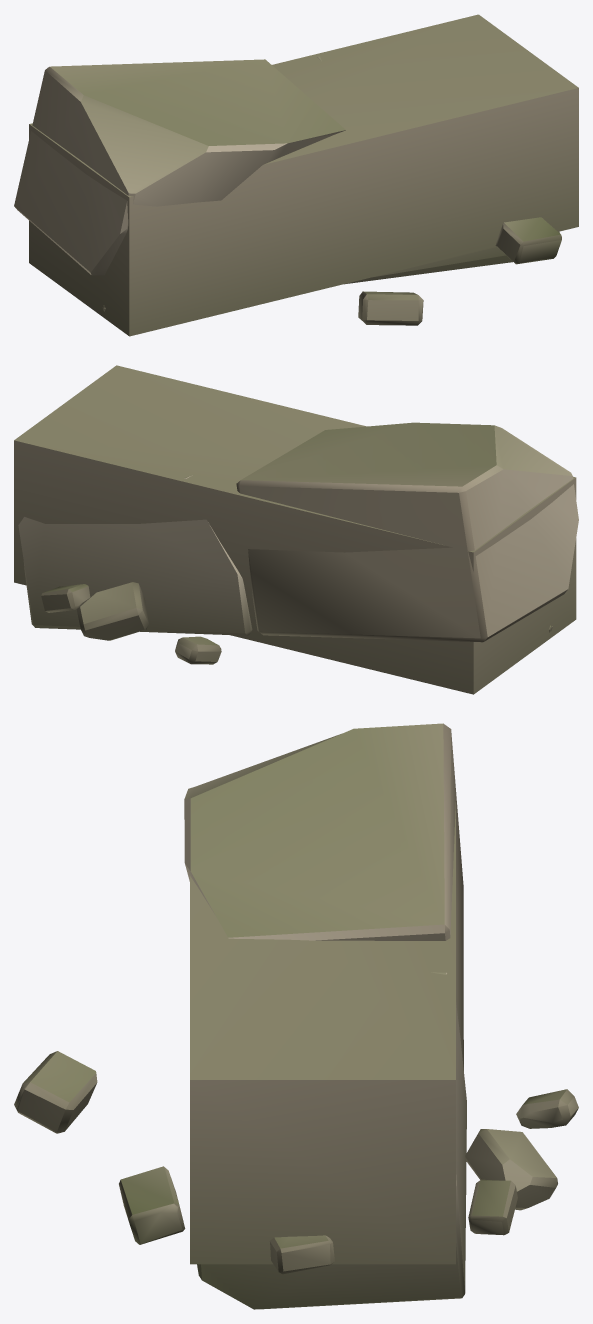
The model's file is baths_fragment.glb.
3 views of the same model, one above another, from view 1: azimuth 30°, elevation 25°; view 2: azimuth 150°, elevation 25°; view 3: azimuth 270°, elevation 25° (orthographic). The views are drawn at different scales.
Visible parts, largest first — view 1: baths_fragment_far, baths_fragment; view 2: baths_fragment, baths_fragment_far; view 3: baths_fragment_far, baths_fragment.
Boxes of the visible parts, x1,y1,x2,y2 form: baths_fragment_far: (29, 14, 578, 336); baths_fragment: (14, 56, 561, 325); baths_fragment: (18, 422, 578, 664); baths_fragment_far: (14, 365, 576, 694); baths_fragment_far: (190, 802, 455, 1264); baths_fragment: (14, 723, 578, 1309).
Size of the model in its own units: 9.45 by 4.54 by 7.22.
